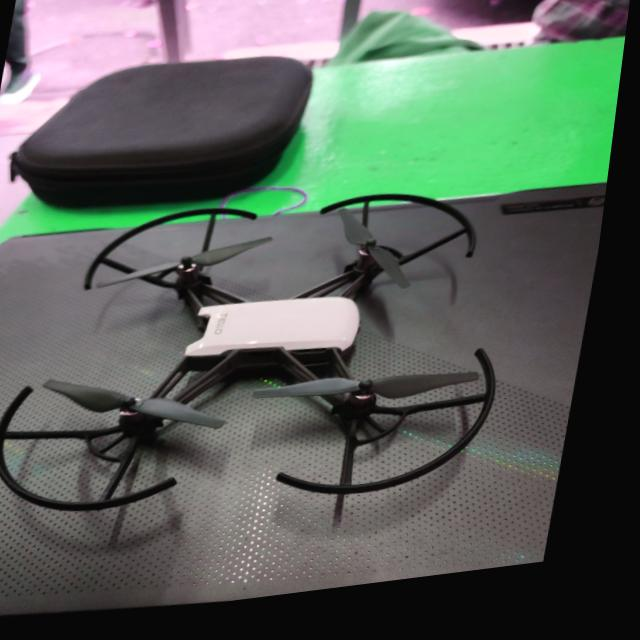drone: (0, 199, 518, 523)
